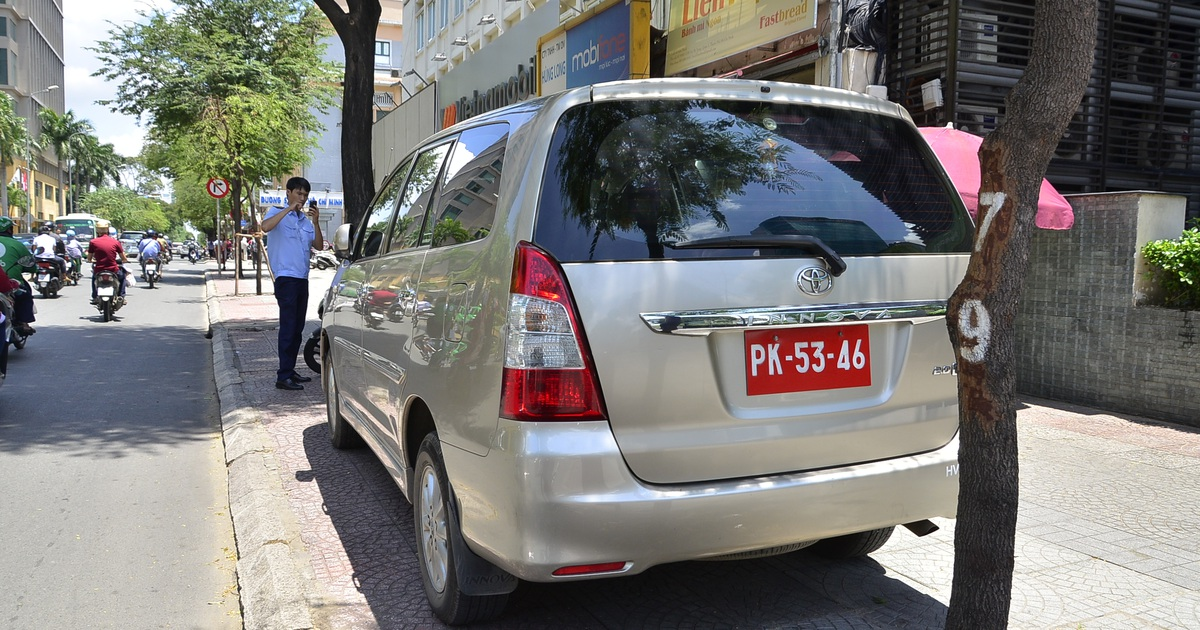plate: (741, 318, 874, 399)
